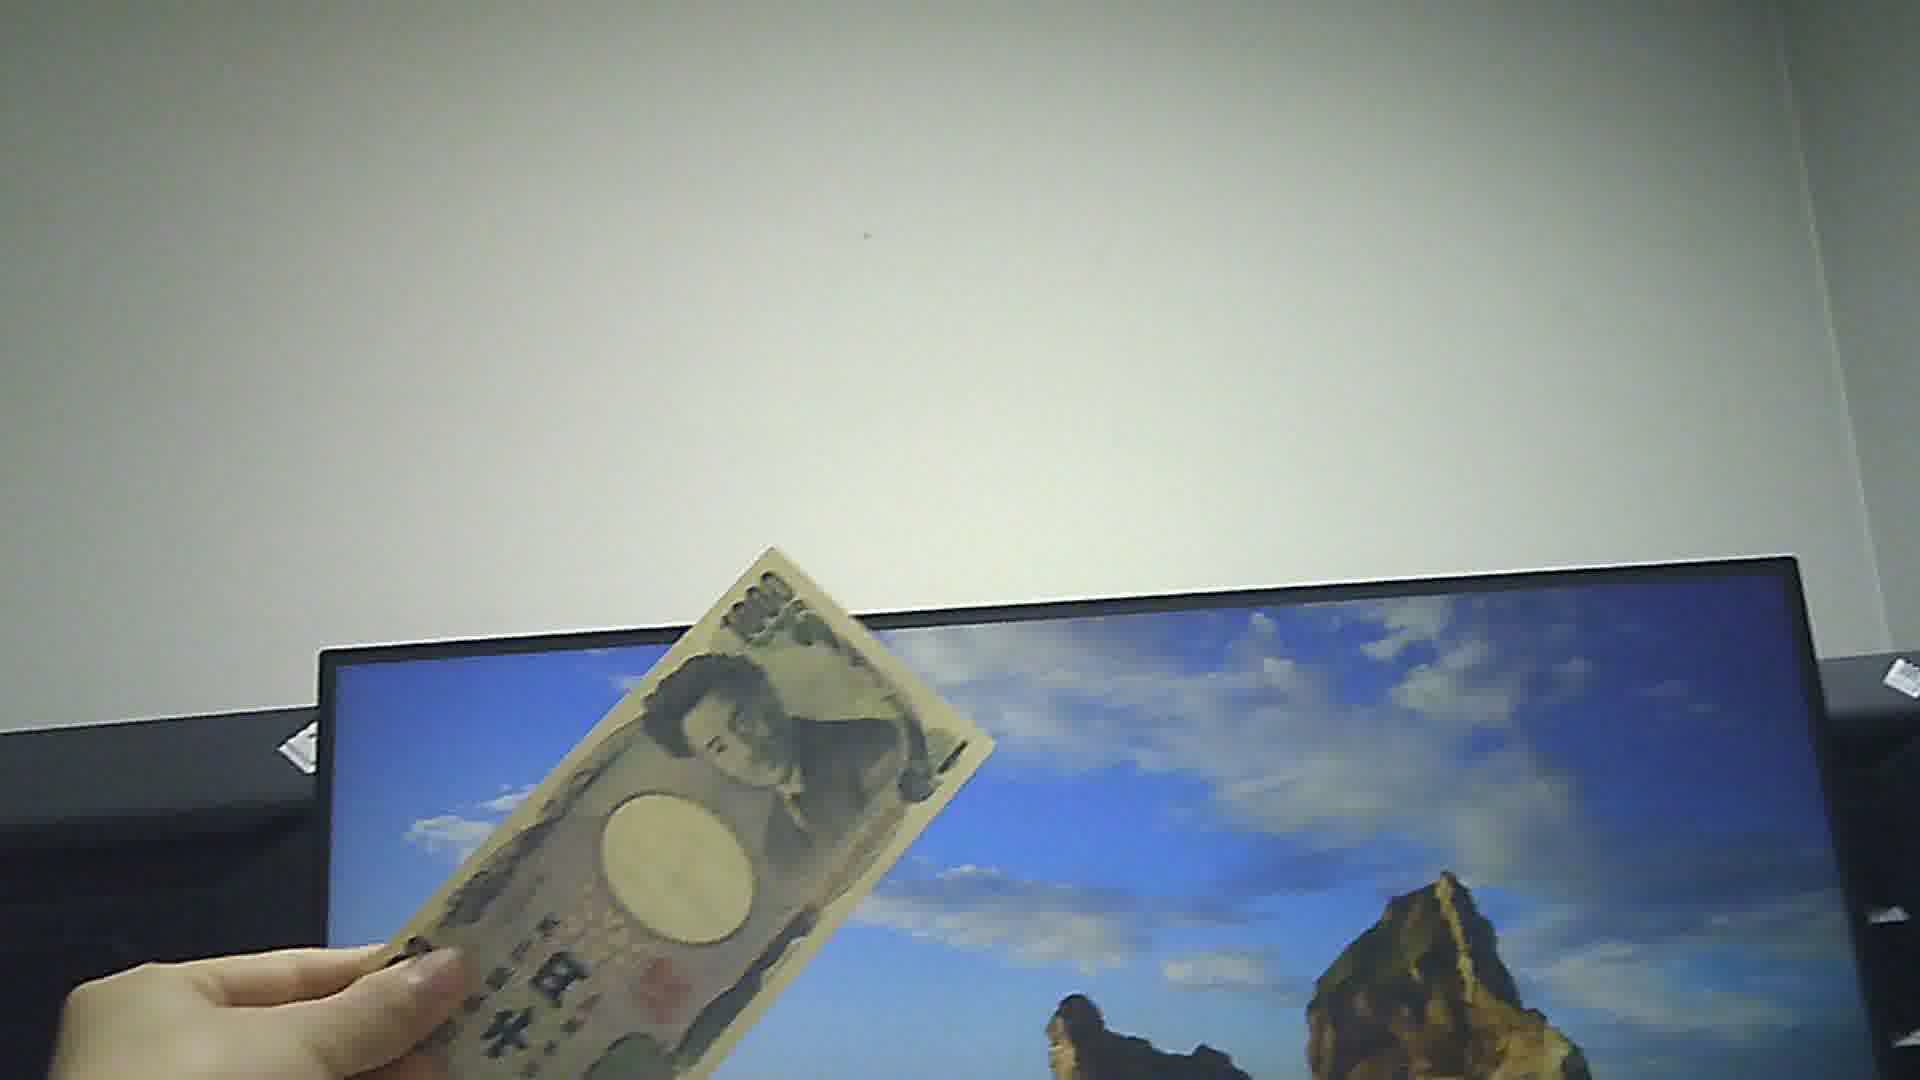1,000 Yen: (342, 535, 1013, 1079)
